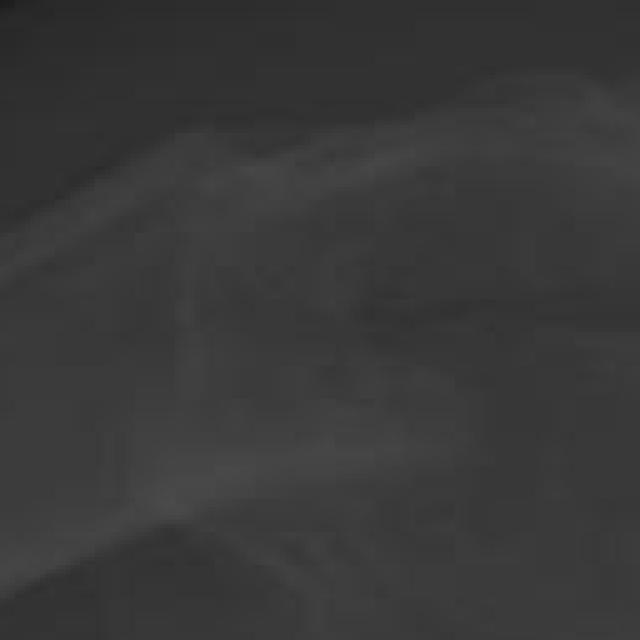fracture: (4, 1, 640, 640)
